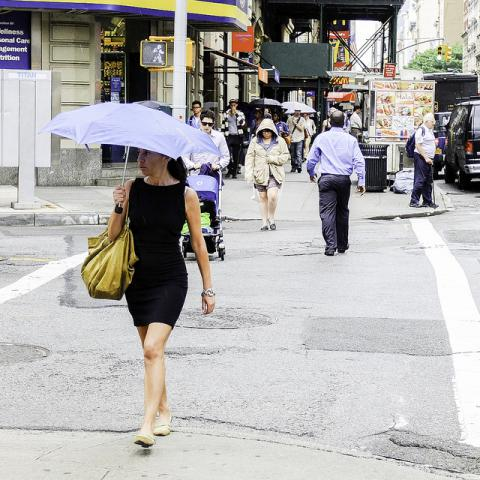car: (444, 99, 479, 191), (433, 109, 452, 180)
truck: (425, 72, 479, 112)
